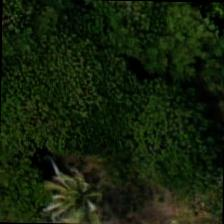Kelapa_Sawit: (30, 150, 122, 224)
